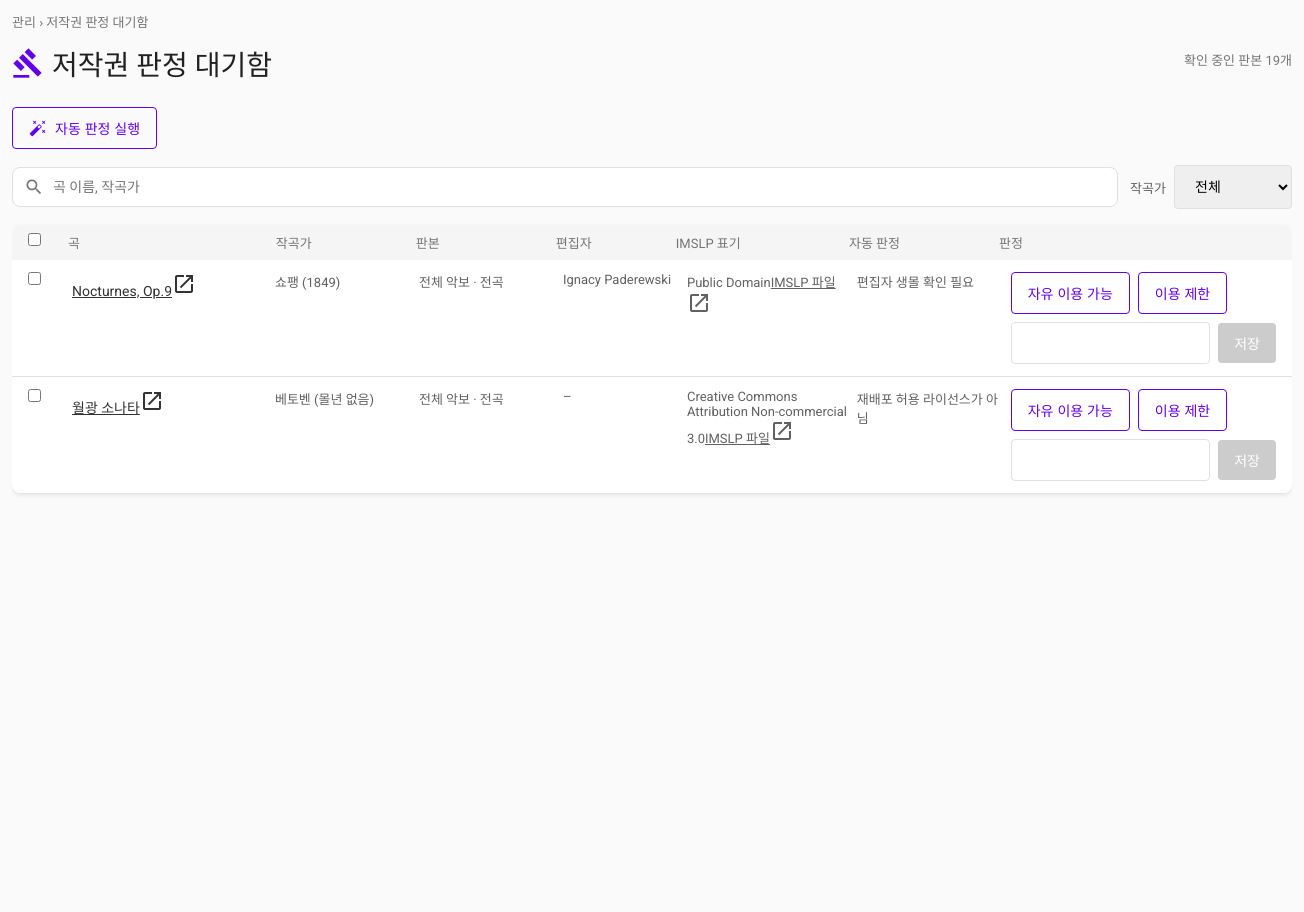
Test case: CopyrightPendingPage — 일괄 판정 › 체크하면 일괄 바가 뜨고, 메모가 없으면 적용 버튼이 잠긴다
Click the checkbox named "Nocturnes, Op.9 선택" at (34, 278), box x1=28 y1=272 x2=41 y2=285
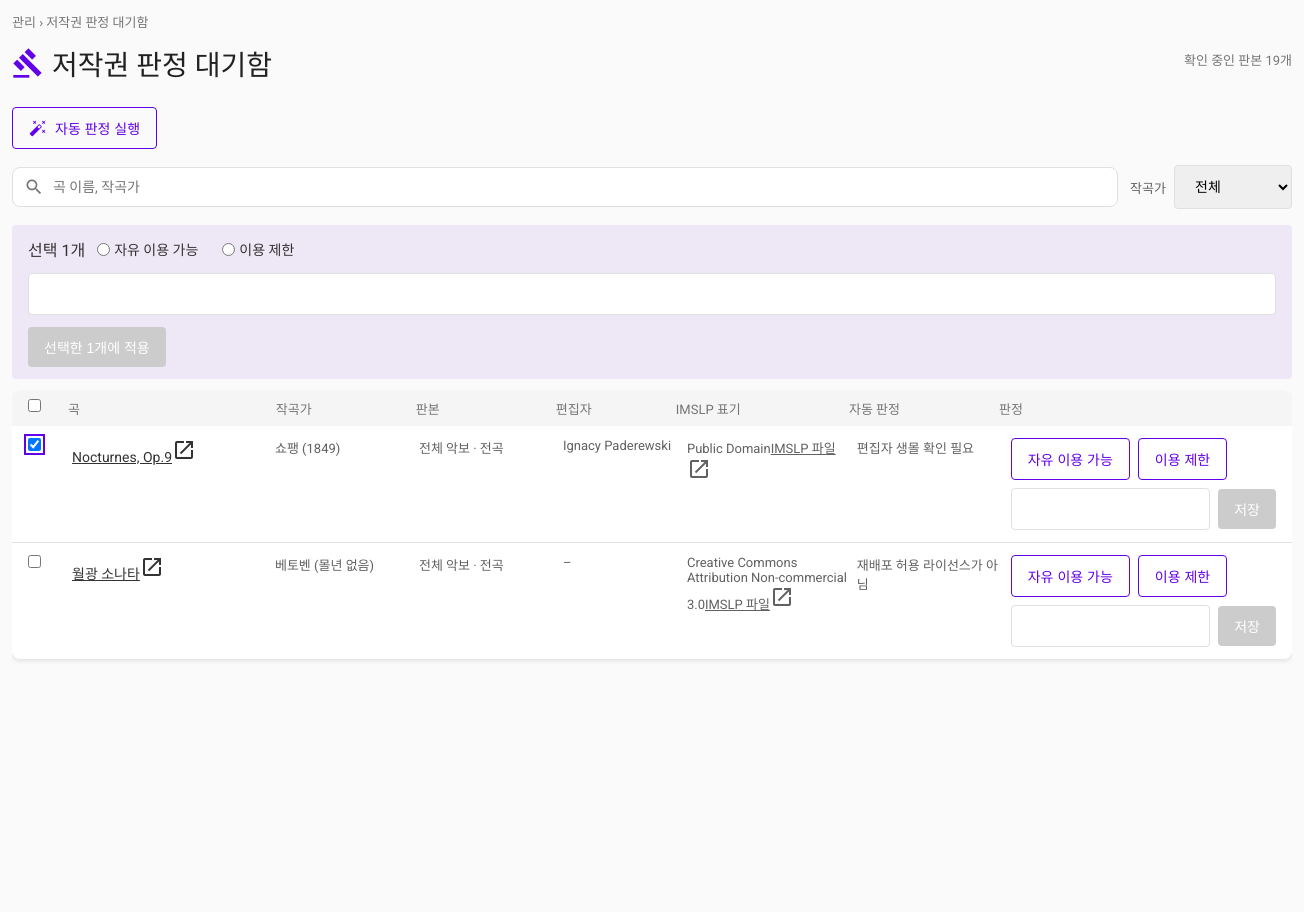
Check: the text "선택 1개" is shown, box x1=28 y1=237 x2=85 y2=261
Click the radio button labelled "자유 이용 가능" at (104, 249), box x1=97 y1=242 x2=110 y2=256
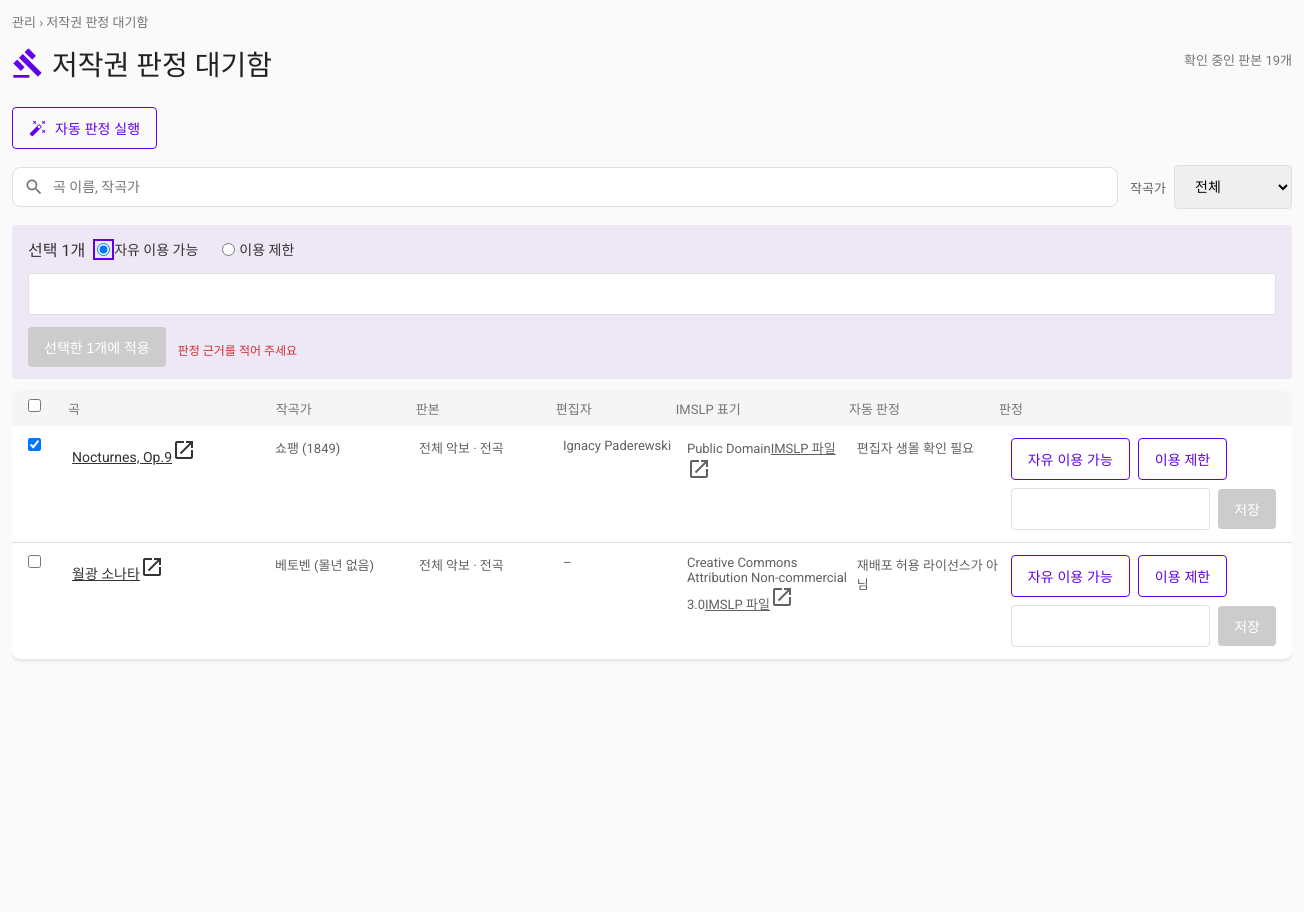
Check: the button "선택한 1개에 적용" is disabled, box x1=28 y1=327 x2=166 y2=367
Check: the text "판정 근거를 적어 주세요" is shown, box x1=178 y1=340 x2=297 y2=358
